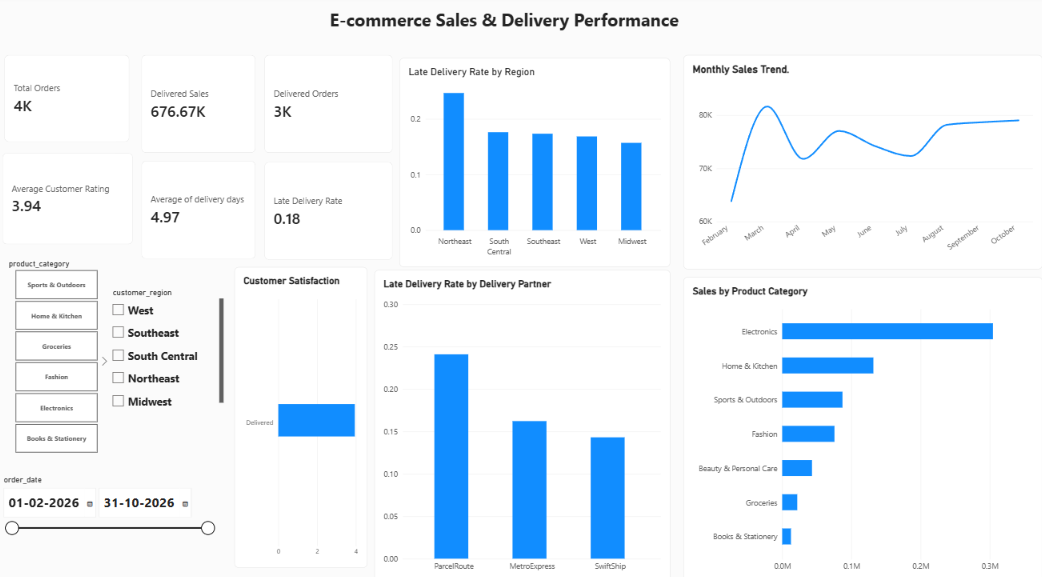

What the dashboard file says about the page in this screenshot:
{"tool":"powerbi","page":{"name":"Sales & Delivery overview ","canvas":[1920,1080],"ordinal":0},"visuals":[{"type":"cardVisual","fields":{"Data":["Cleaned_Data.Total Orders"]},"box":[10,108.1,230.2,160.1],"z":0},{"type":"cardVisual","fields":{"Data":["Cleaned_Data.Delivered Sales"]},"box":[262.2,108.1,210.2,180.2],"z":1},{"type":"cardVisual","fields":{"Data":["Cleaned_Data.Delivered Orders"]},"box":[488.4,108.1,236.2,180.2],"z":2},{"type":"cardVisual","fields":{"Data":["Cleaned_Data.Average Customer Rating"]},"box":[6,288.2,240.2,168.1],"z":4},{"type":"cardVisual","fields":{"Data":["Avg(Cleaned_Data.delivery days)"]},"box":[262.2,304.3,210.2,180.2],"z":5},{"type":"cardVisual","fields":{"Data":["Cleaned_Data.Late Delivery Rate"]},"box":[488.4,306.3,236.2,180.2],"z":6},{"type":"lineChart","title":"Monthly Sales Trend.","fields":{"Category":["Cleaned_Data.order_date.Variation.Date Hierarchy.Month"],"Y":["Cleaned_Data.Delivered Sales"]},"box":[1259.1,108.1,660.6,394.3],"z":7},{"type":"clusteredBarChart","title":"Sales by Product Category","fields":{"Category":["Cleaned_Data.product_category"],"Y":["Cleaned_Data.Delivered Sales"]},"box":[1259.4,502.9,660.6,578.3],"z":8},{"type":"clusteredColumnChart","fields":{"Category":["Cleaned_Data.customer_region"],"Y":["Cleaned_Data.Late Delivery Rate"]},"box":[750.6,114.1,484.4,384.3],"z":10},{"type":"columnChart","fields":{"Category":["Cleaned_Data.delivery_partner"],"Y":["Cleaned_Data.Late Delivery Rate"]},"box":[676.6,502.9,598.9,578.3],"z":11},{"type":"barChart","fields":{"Category":["Cleaned_Data.order_status"],"Y":["Avg(Cleaned_Data.review_score)"]},"box":[388.3,498.4,288.2,506.4],"z":12},{"type":"slicer","fields":{"Values":["Cleaned_Data.product_category"]},"box":[10,484.4,190.2,358.3],"z":13},{"type":"slicer","fields":{"Values":["Cleaned_Data.customer_region"]},"box":[200.2,504.4,212.2,256.2],"z":14},{"type":"slicer","fields":{"Values":["Cleaned_Data.order_date"]},"box":[0,880.7,400.3,144.1],"z":15},{"type":"textbox","box":[432,22.2,993.2,48],"z":16}]}

Visuals, with their boxes in screenshot pixels (x1, y1, x2, y2), scaled from the page's 1920x1080 canvas onto the 1042x577 screenshot:
cardVisual - Cleaned_Data.Total Orders: 5 58 130 143
cardVisual - Cleaned_Data.Delivered Sales: 142 58 256 154
cardVisual - Cleaned_Data.Delivered Orders: 265 58 393 154
cardVisual - Cleaned_Data.Average Customer Rating: 3 154 134 244
cardVisual - Avg(Cleaned_Data.delivery days): 142 163 256 259
cardVisual - Cleaned_Data.Late Delivery Rate: 265 164 393 260
"Monthly Sales Trend." lineChart: 683 58 1041 268
"Sales by Product Category" clusteredBarChart: 683 269 1041 576
clusteredColumnChart - Cleaned_Data.customer_region x Cleaned_Data.Late Delivery Rate: 407 61 670 266
columnChart - Cleaned_Data.delivery_partner x Cleaned_Data.Late Delivery Rate: 367 269 692 576
barChart - Cleaned_Data.order_status x Avg(Cleaned_Data.review_score): 211 266 367 537
slicer - Cleaned_Data.product_category: 5 259 109 450
slicer - Cleaned_Data.customer_region: 109 269 224 406
slicer - Cleaned_Data.order_date: 0 471 217 548
textbox: 234 12 773 38
